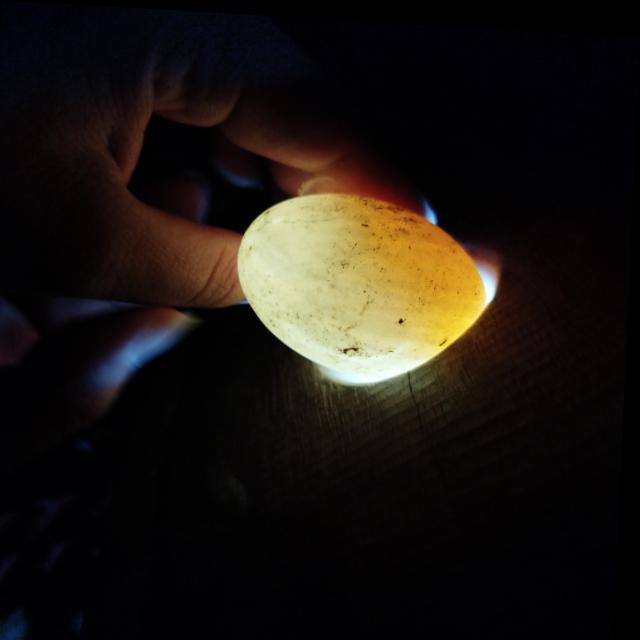Camara de Ar: (279, 281, 412, 353)
